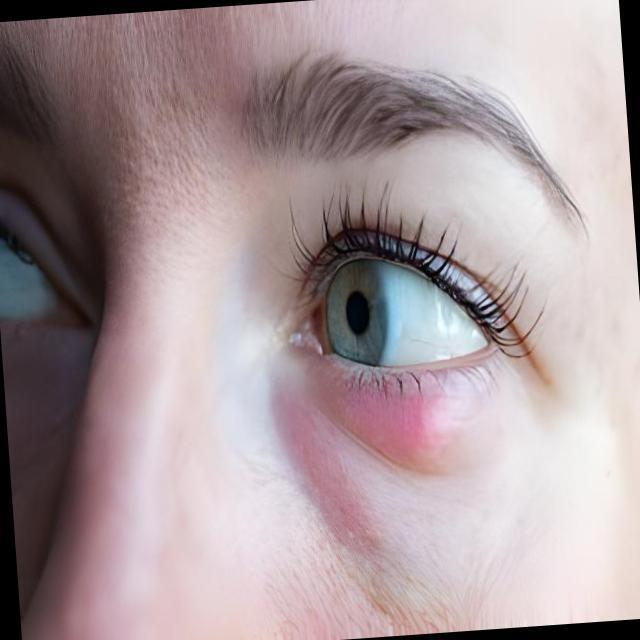Stye: (354, 366, 506, 481)
